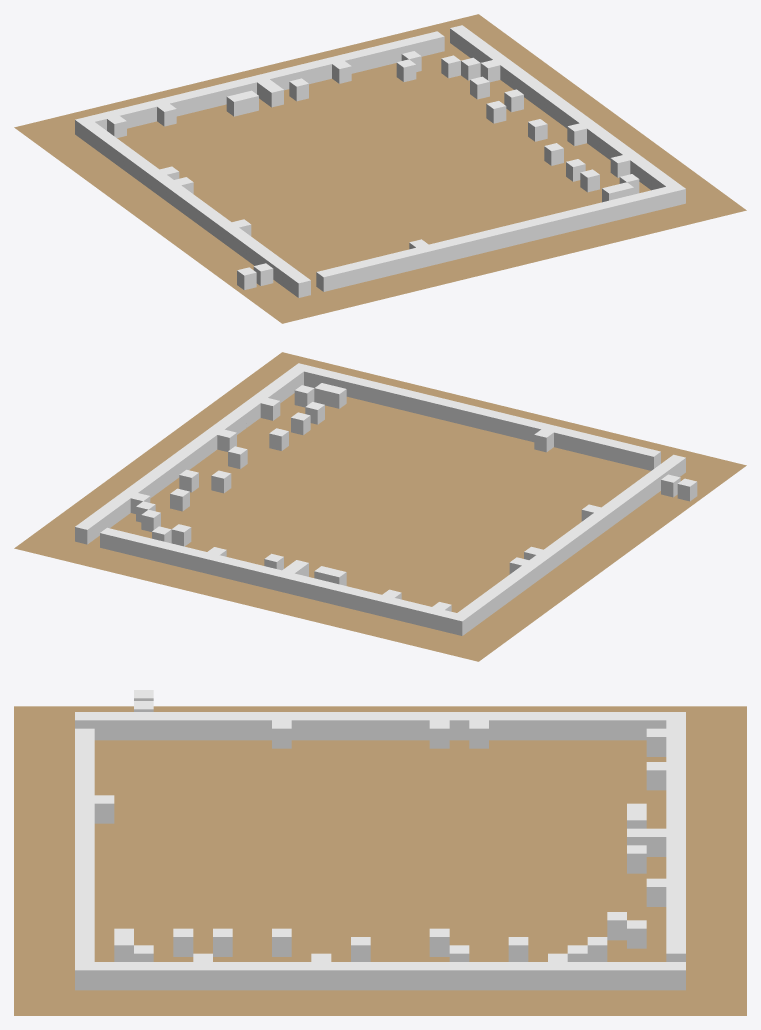
Rendered from debug_map.glb.
3 renders of one model, top to bottom at view 1: azimuth 30°, elevation 25°; view 2: azimuth 150°, elevation 25°; view 3: azimuth 270°, elevation 25°, orthographic. The views are drawn at different scales.
Visible parts, largest first — view 1: MazeFloor; view 2: MazeFloor; view 3: MazeFloor, Wall_10_1, Wall_1_18, Wall_0_5, Wall_26_5, Wall_30_5, Wall_0_12, Wall_30_12, Wall_26_18, Wall_30_18, Wall_0_25, Wall_30_25 (+60 smaller).
Boxes of the visible parts, x1,y1,x2,y2 form: MazeFloor: (14, 14, 746, 323); MazeFloor: (14, 352, 746, 661); MazeFloor: (14, 706, 746, 1015); Wall_10_1: (94, 795, 114, 823); Wall_1_18: (429, 720, 449, 748); Wall_0_5: (173, 712, 193, 740); Wall_26_5: (173, 928, 193, 956); Wall_30_5: (173, 962, 193, 990); Wall_0_12: (311, 712, 331, 740); Wall_30_12: (311, 962, 331, 990); Wall_26_18: (429, 928, 449, 956); Wall_30_18: (429, 962, 449, 990); Wall_0_25: (567, 712, 587, 740); Wall_30_25: (567, 962, 587, 990).
Bounding box in the file's own units: 297 × 9 × 297.
